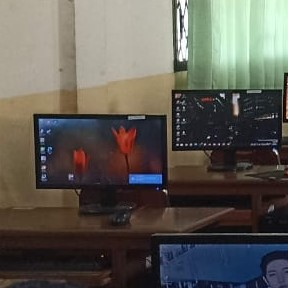monitor: (32, 114, 169, 214), (150, 233, 287, 286), (171, 88, 282, 153)
